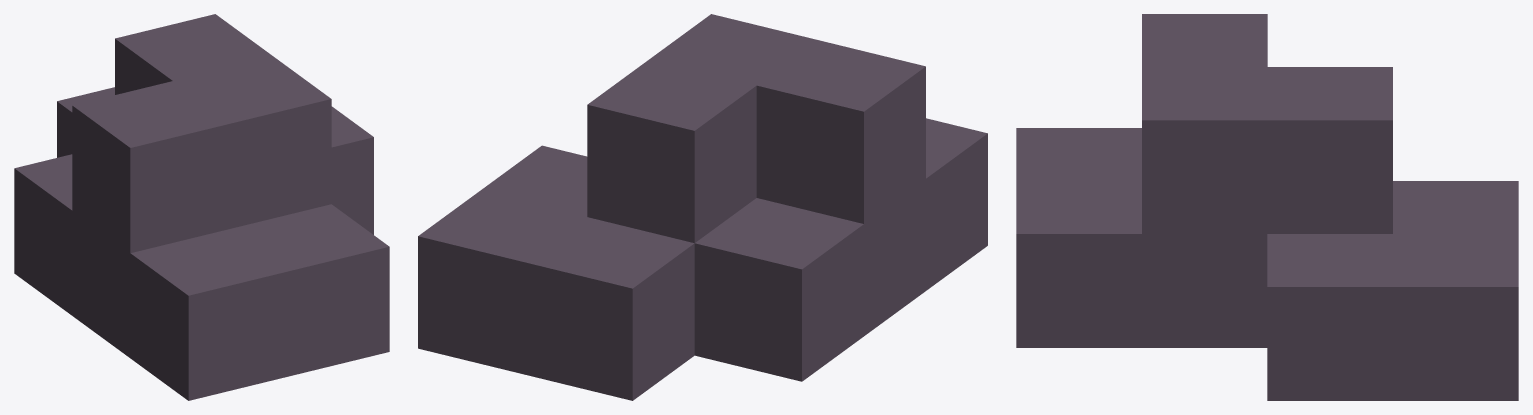
Rendered from LawnModel-13-2.obj.
3 renders of one model, left to right at view 1: azimuth 30°, elevation 25°; view 2: azimuth 150°, elevation 25°; view 3: azimuth 270°, elevation 25°, orthographic. The views are drawn at different scales.
Parts seen in each view (by area): view 1: LawnModel-13-2; view 2: LawnModel-13-2; view 3: LawnModel-13-2.
Boxes of the visible parts, box(x1,y1,x2,y2) form: LawnModel-13-2: box(14, 14, 389, 400); LawnModel-13-2: box(418, 14, 987, 400); LawnModel-13-2: box(1016, 14, 1518, 400).
Bounding box in the file's own units: 3 × 2 × 4.
Materials: 1 (1 with a texture image).
